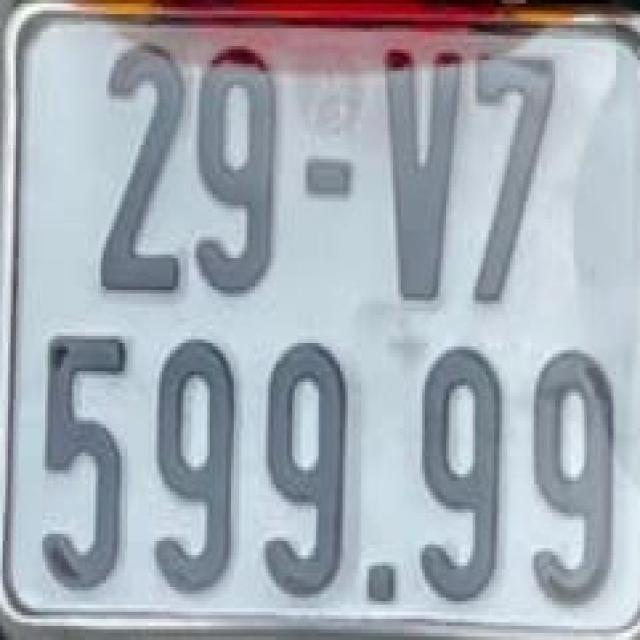2: (92, 32, 188, 297)
5: (37, 322, 130, 590)
7: (467, 42, 558, 308)
9: (523, 340, 622, 608), (409, 336, 507, 605), (255, 332, 353, 598), (188, 35, 284, 297), (148, 329, 240, 594)
V: (374, 38, 462, 300)
